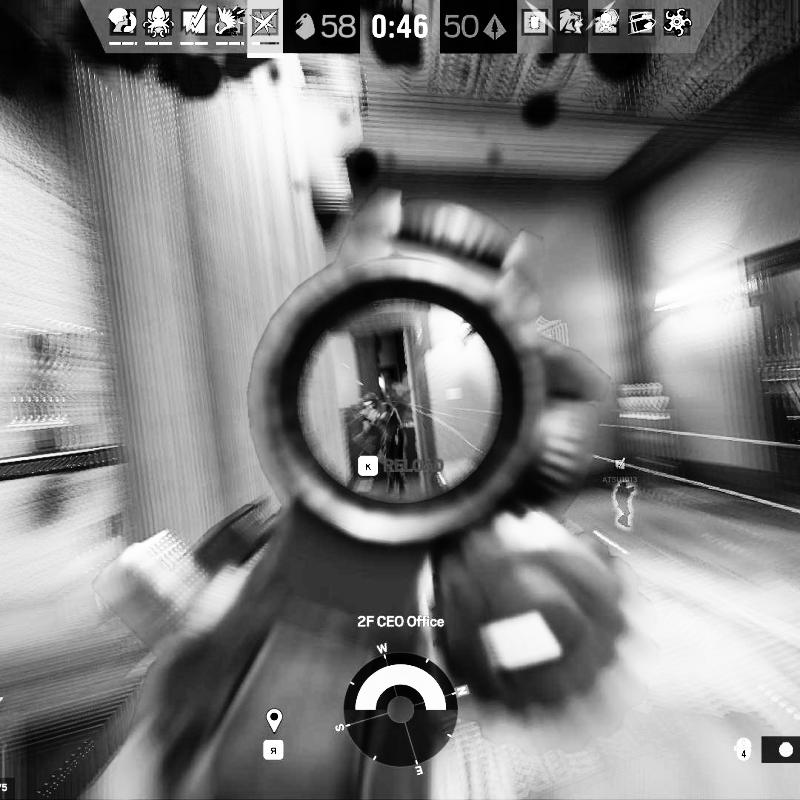Character: (358, 391, 408, 501)
Friend_label: (601, 457, 639, 484)
Head: (364, 392, 380, 412)
